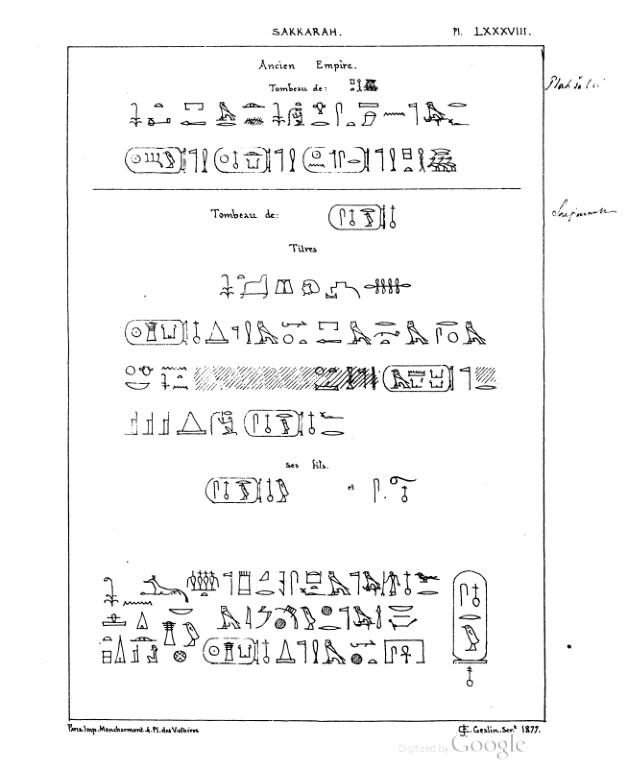circle: (448, 567, 489, 668), (120, 142, 191, 179), (203, 472, 266, 511), (380, 363, 456, 395), (300, 143, 372, 174), (200, 635, 263, 670), (124, 316, 189, 349), (241, 407, 307, 439), (324, 200, 388, 231), (212, 145, 275, 176)
